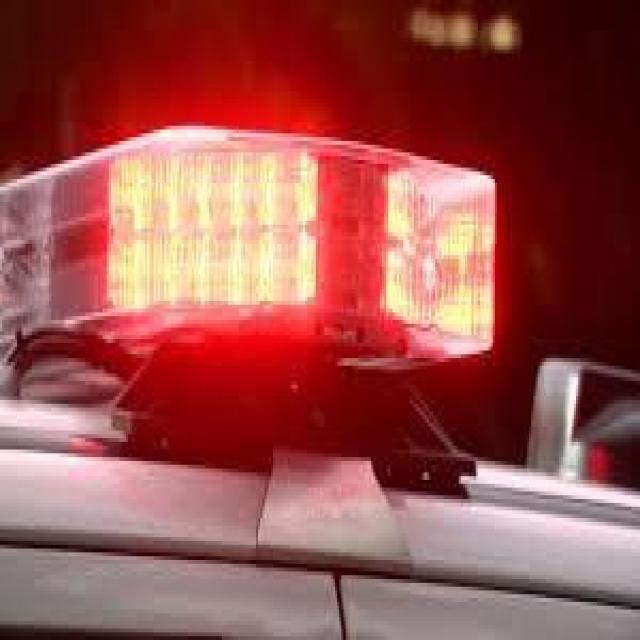ambulance: (7, 124, 504, 486)
